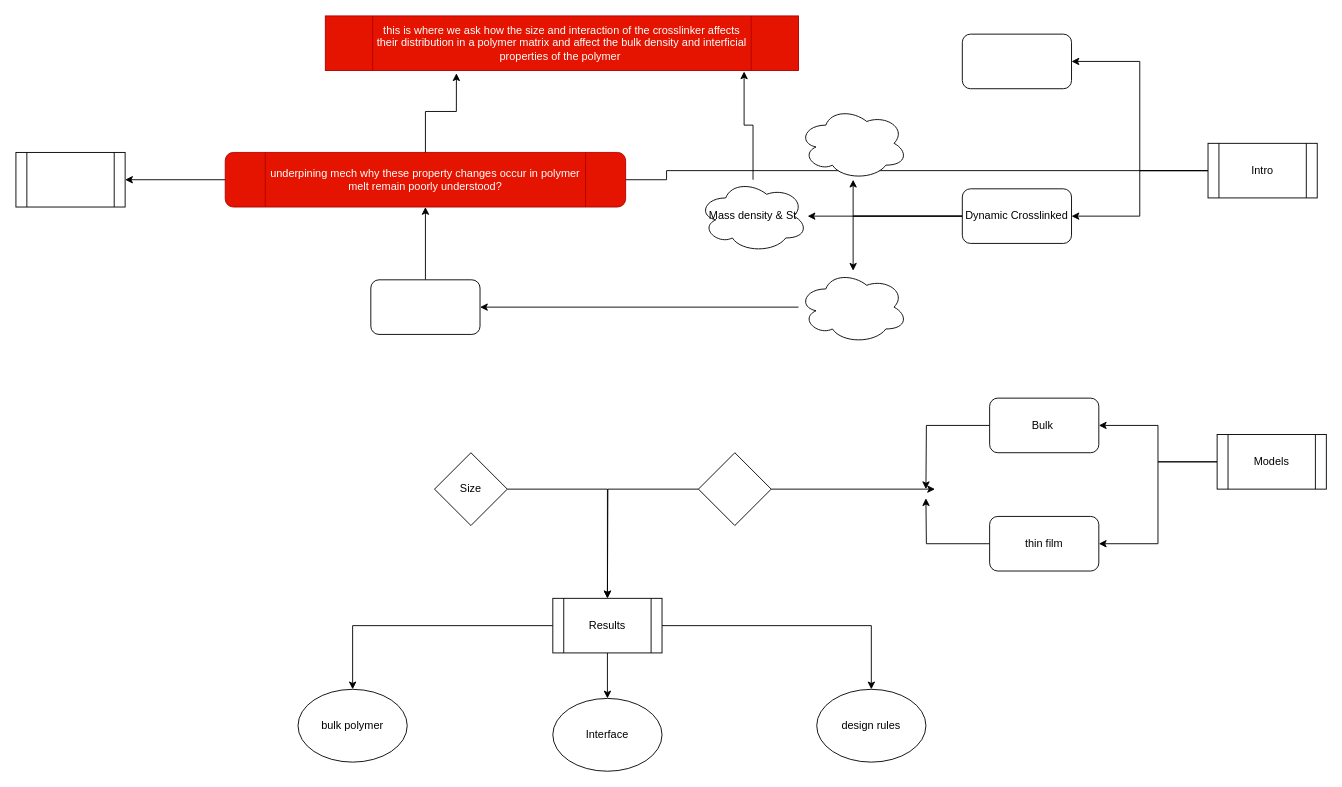
The diagram is 1342 pixels wide and 787 high, and some of its shapes have lost their labels. The shapes that lost their labels are listed below. From the top down, each one's centre as x and y in pixels, then its label:
At point (1016, 61): "Permanently crosslinked".
At point (853, 143): "enhanced mech, self, tunable rheology, shape memory".
At point (70, 179): "Implicit".
At point (425, 306): "phase beh and compatibility".
At point (853, 307): "miscibility of polymer blends".
At point (734, 489): "interaction".
